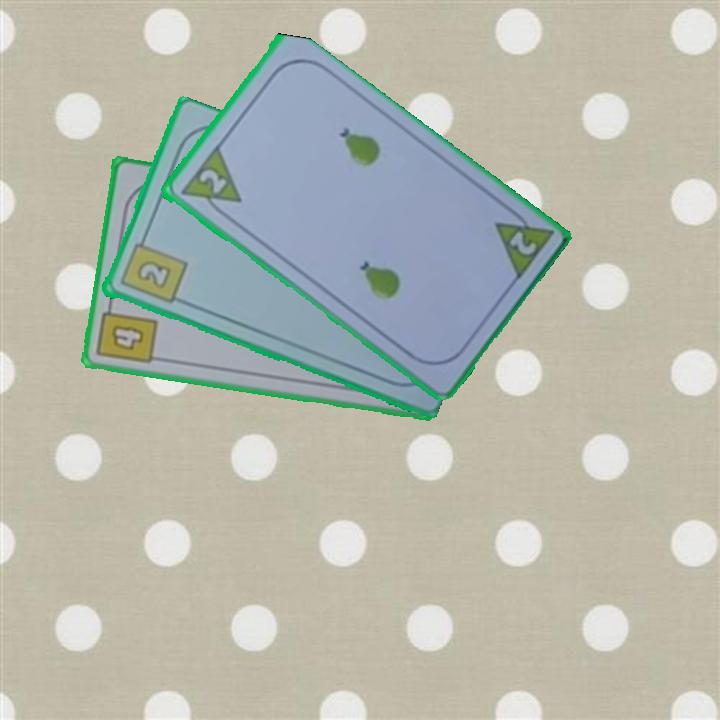2b: (116, 232, 189, 307)
2p: (489, 202, 555, 285), (176, 143, 244, 222)
4b: (93, 297, 160, 367)
